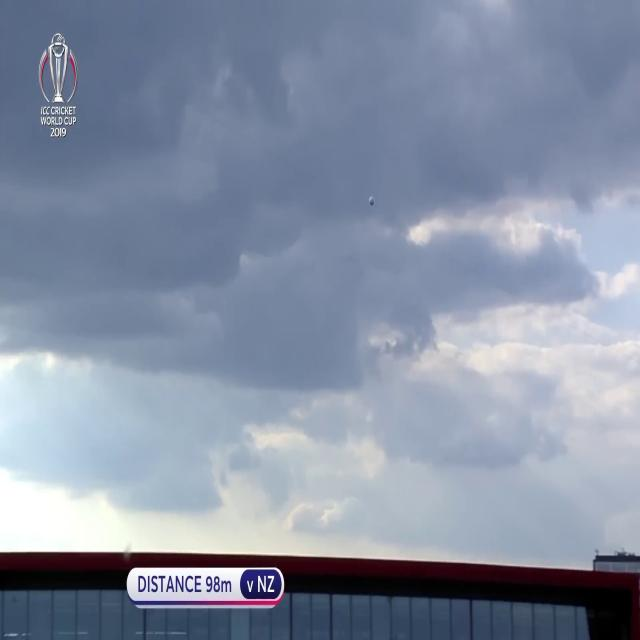ball: (369, 194, 375, 207)
